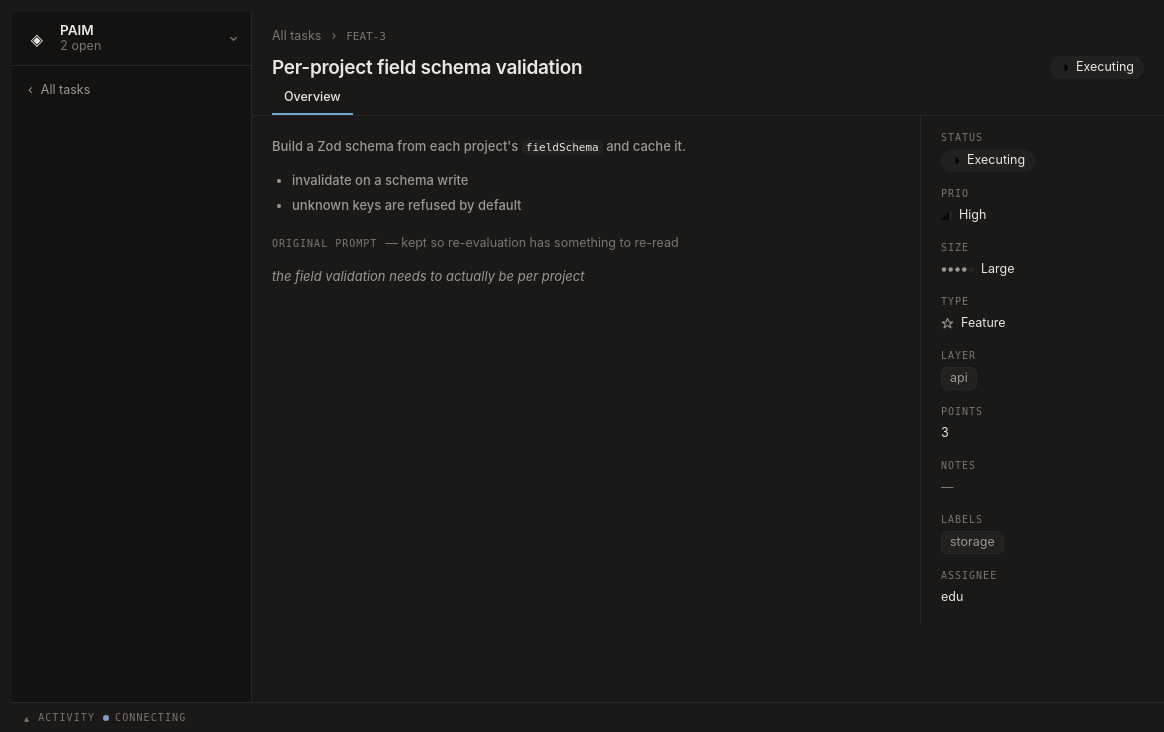
editing a property › edits one property at a time
Click the element showing "storage" at (972, 543), box [941,531,1004,554]
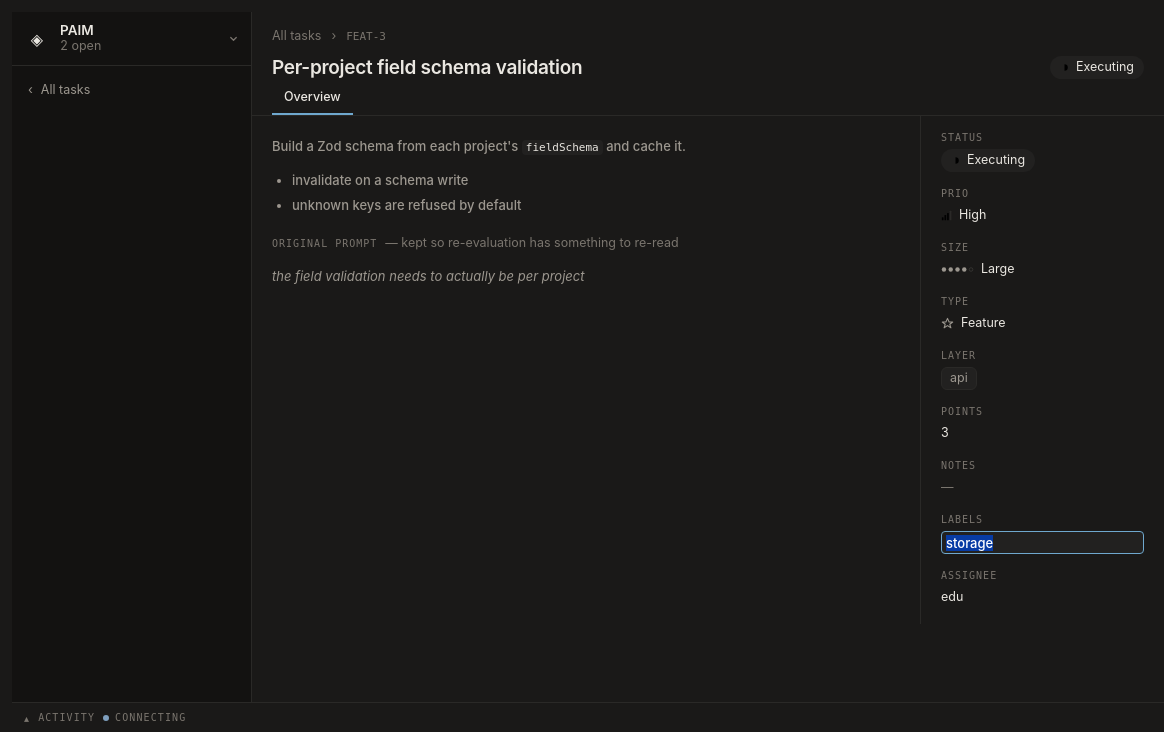
Click the text "edu" at (952, 597), box [941,589,963,604]
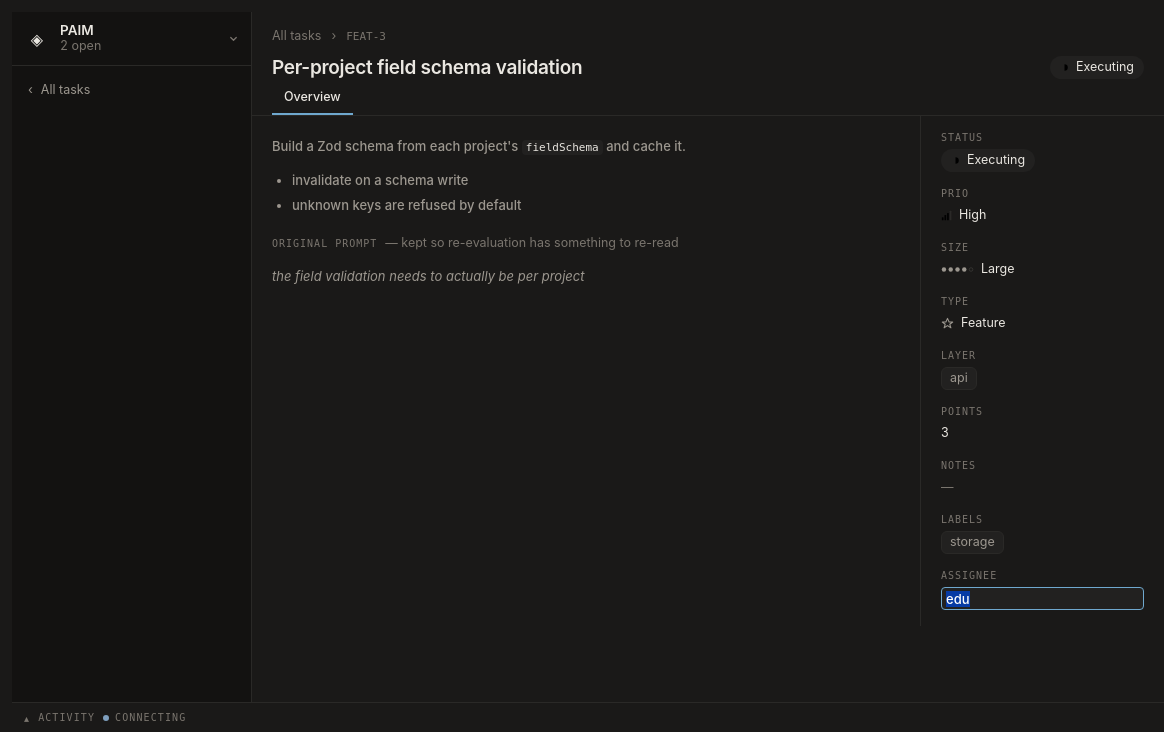
Result: the field named "Assignee of FEAT-3" is shown at [941,587,1144,610]
